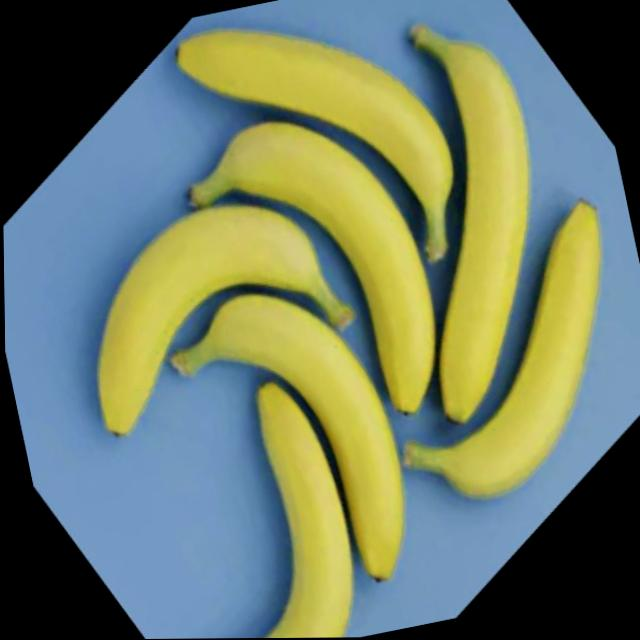Banana: (174, 96, 455, 452), (363, 8, 583, 431), (171, 0, 474, 306), (158, 270, 423, 617), (357, 197, 640, 517), (63, 182, 372, 443), (154, 371, 369, 639)
